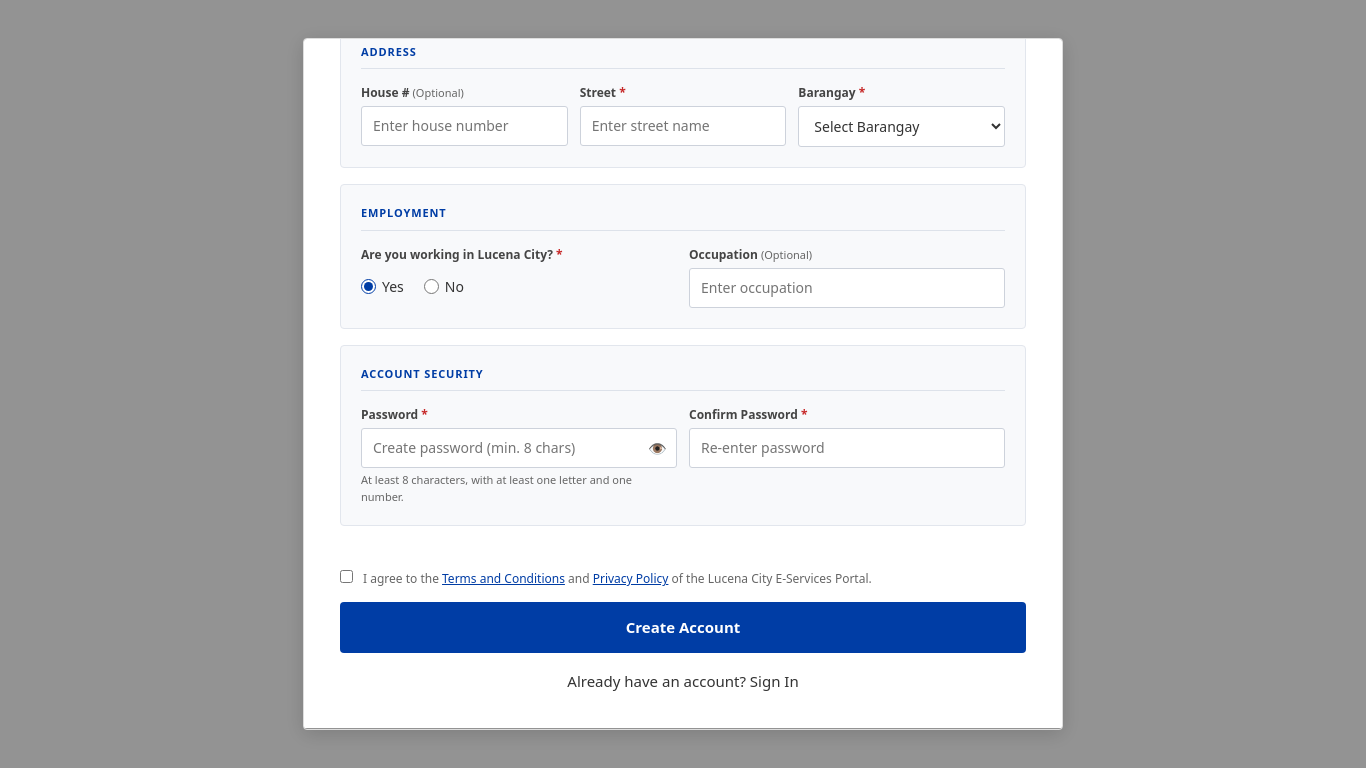
it: AuthModal — sign up › does not submit the form when the password-visibility toggle is pressed
The image size is (1366, 768).
(page scrolled)
Click the button named "show password". click: [658, 448]
box: top-left (648, 437), bottom-right (667, 460)
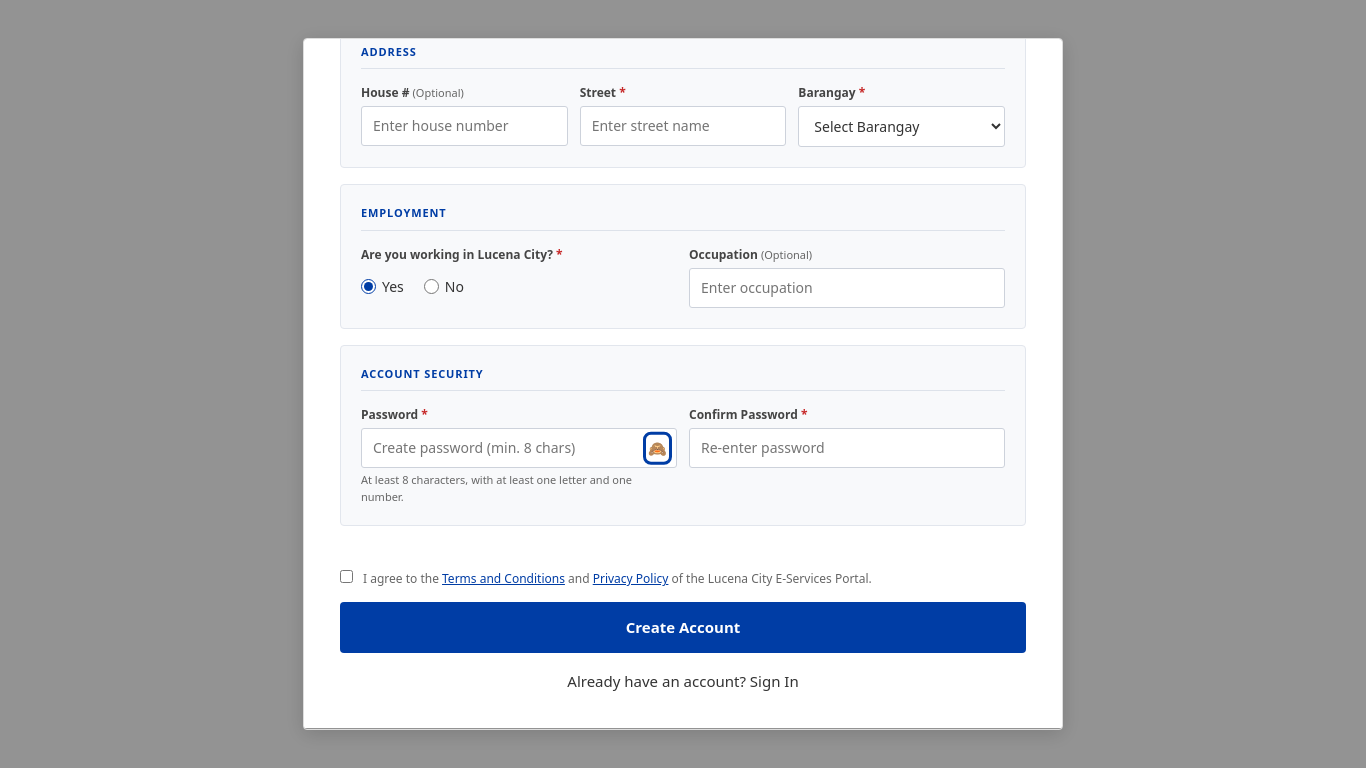
Check: the button named "hide password" is shown, box top-left (648, 437), bottom-right (667, 460)
